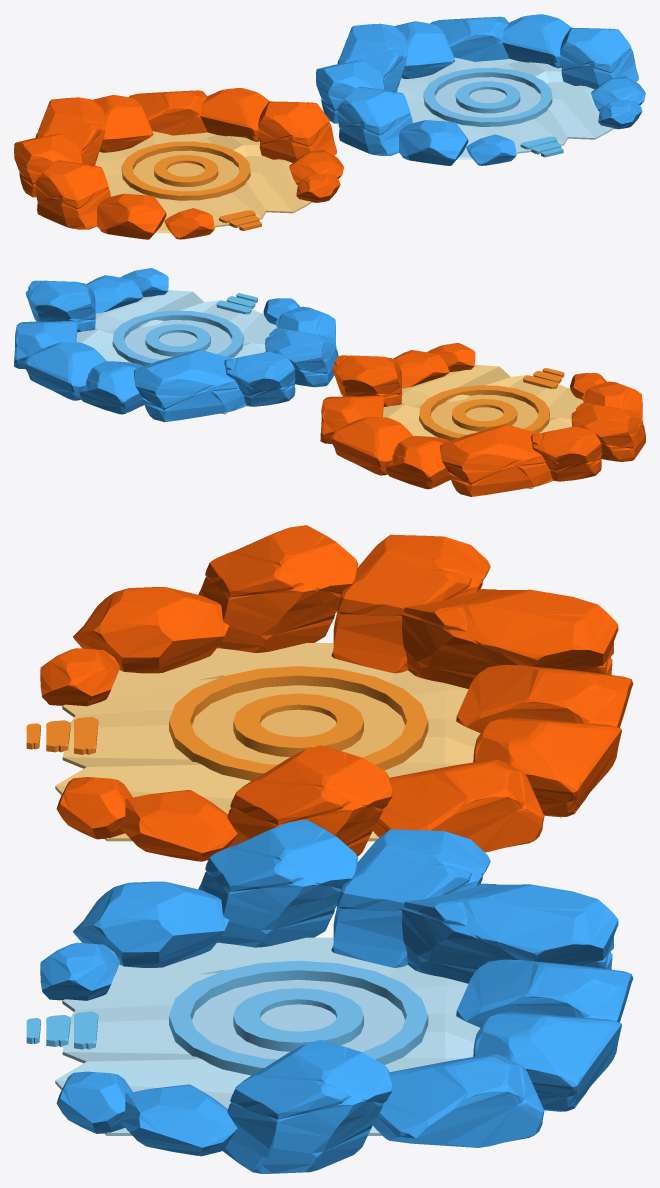
File: Dragon Habitat.fbx
3 renders of one model, top to bottom at view 1: azimuth 30°, elevation 25°; view 2: azimuth 150°, elevation 25°; view 3: azimuth 270°, elevation 25°, orthographic. The views are drawn at different scales.
Parts seen in each view (by area): view 1: polySurface147, polySurface147.001; view 2: polySurface147, polySurface147.001; view 3: polySurface147.001, polySurface147.
Part boxes in pixels (<box>): polySurface147: <box>14,88,343,239</box>; polySurface147.001: <box>316,14,645,165</box>; polySurface147: <box>320,343,645,496</box>; polySurface147.001: <box>14,268,338,422</box>; polySurface147.001: <box>26,819,633,1173</box>; polySurface147: <box>26,525,633,861</box>.
Bounding box in the file's own units: 22042 × 1556 × 9803.
